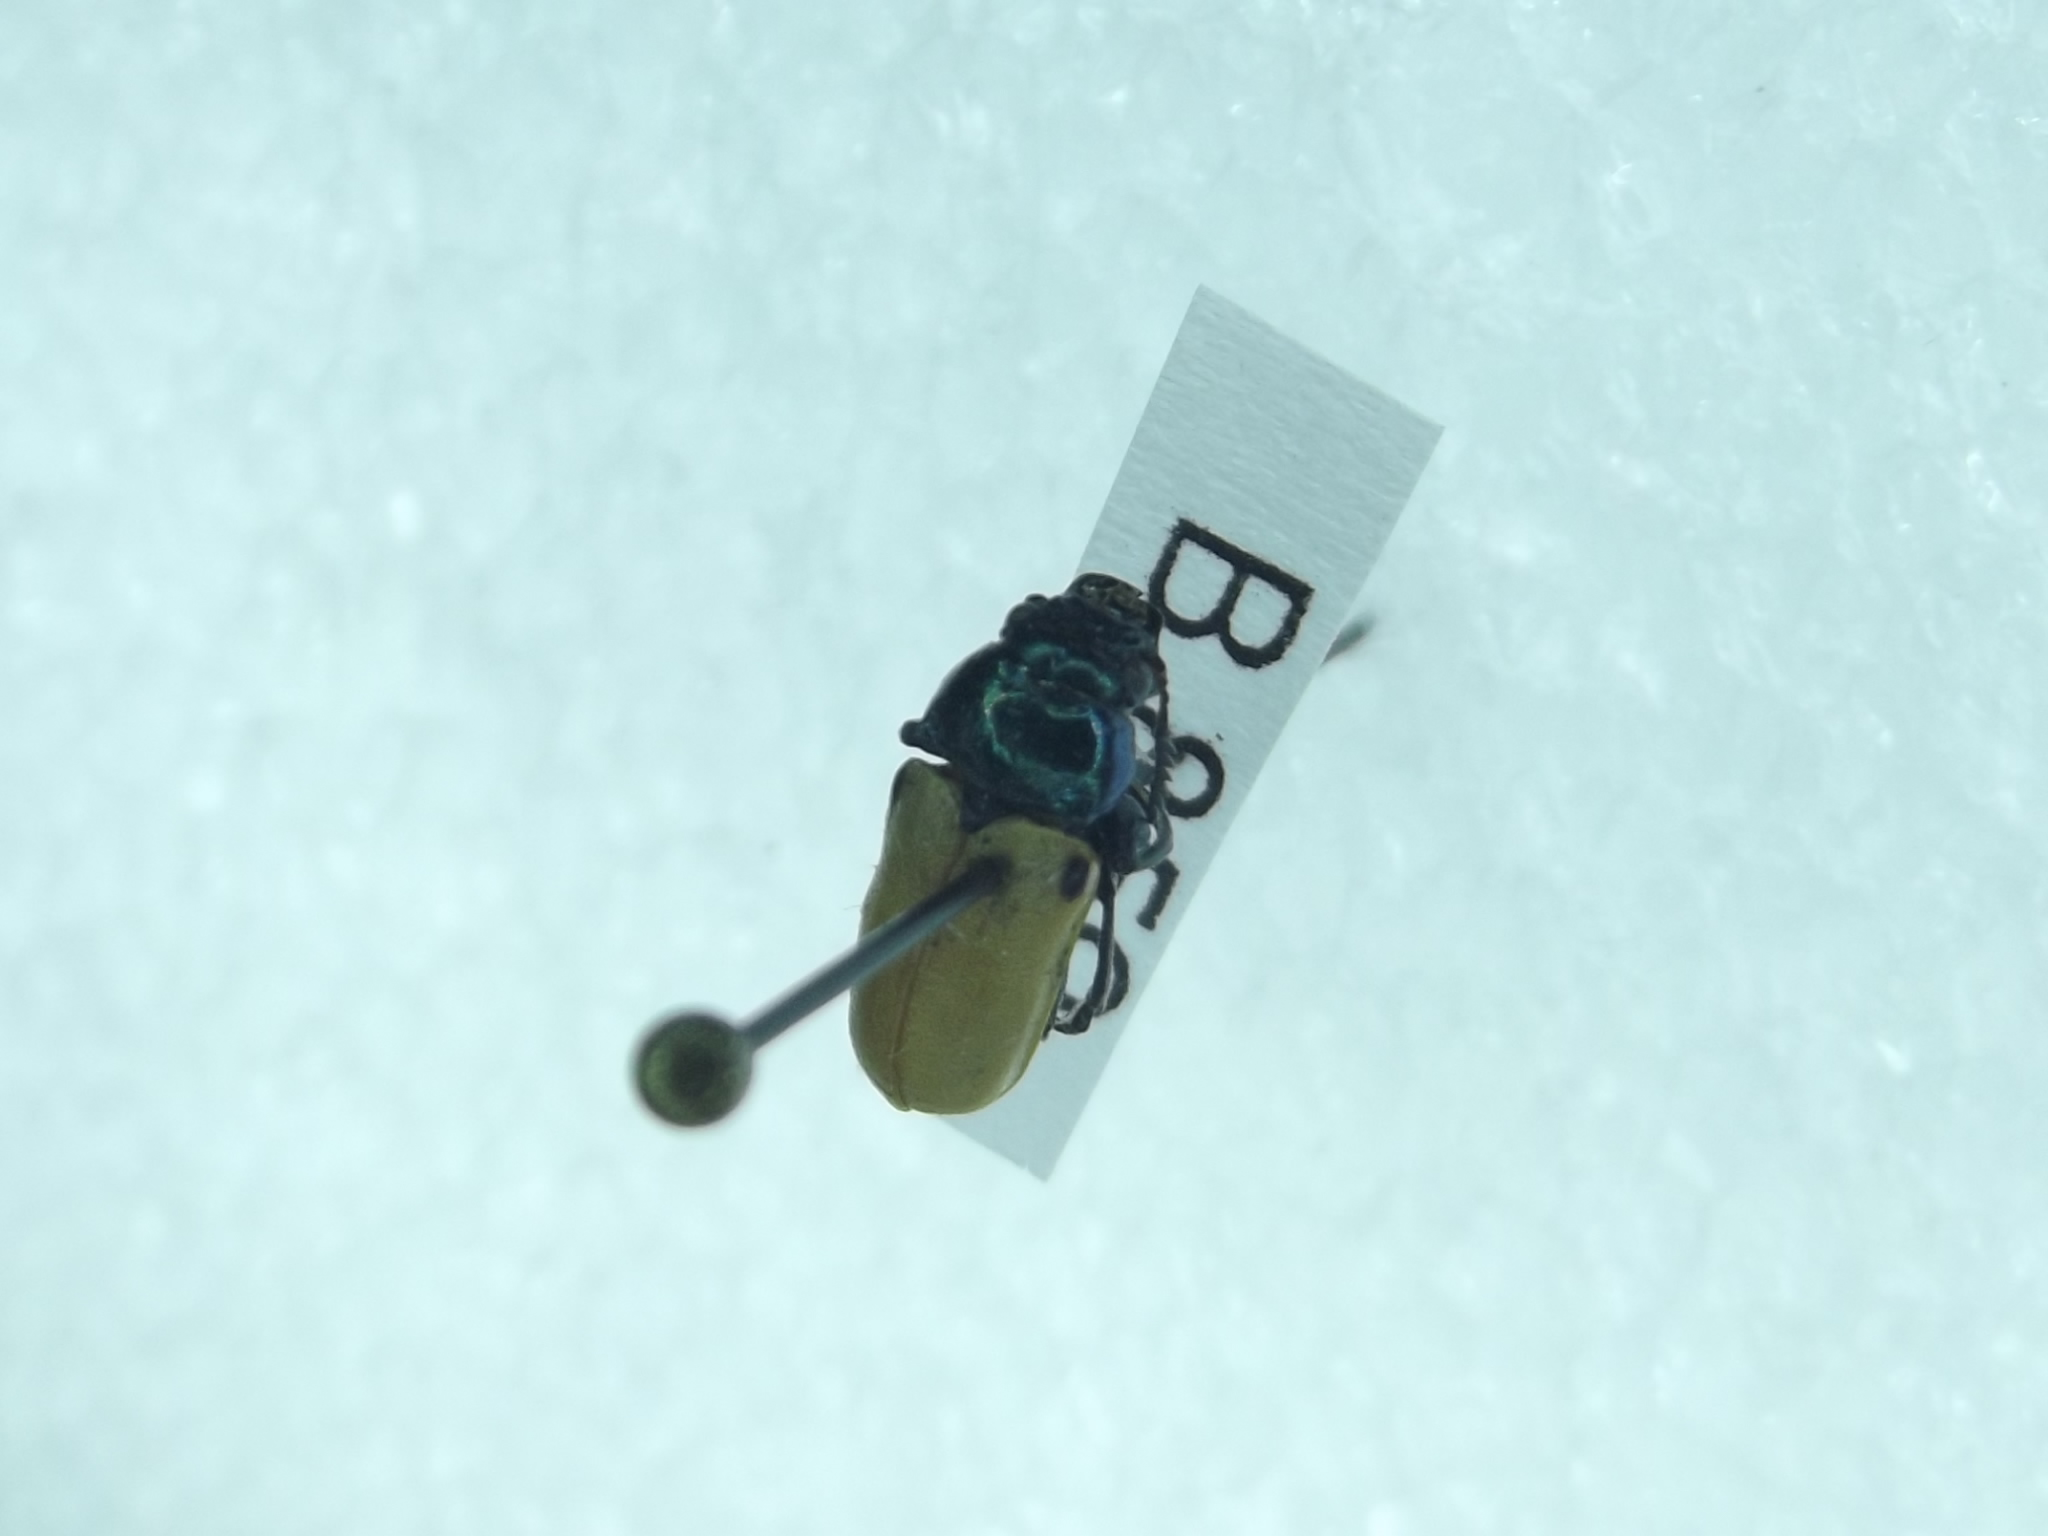Labidostomis_longimana: (850, 566, 1185, 1137)
